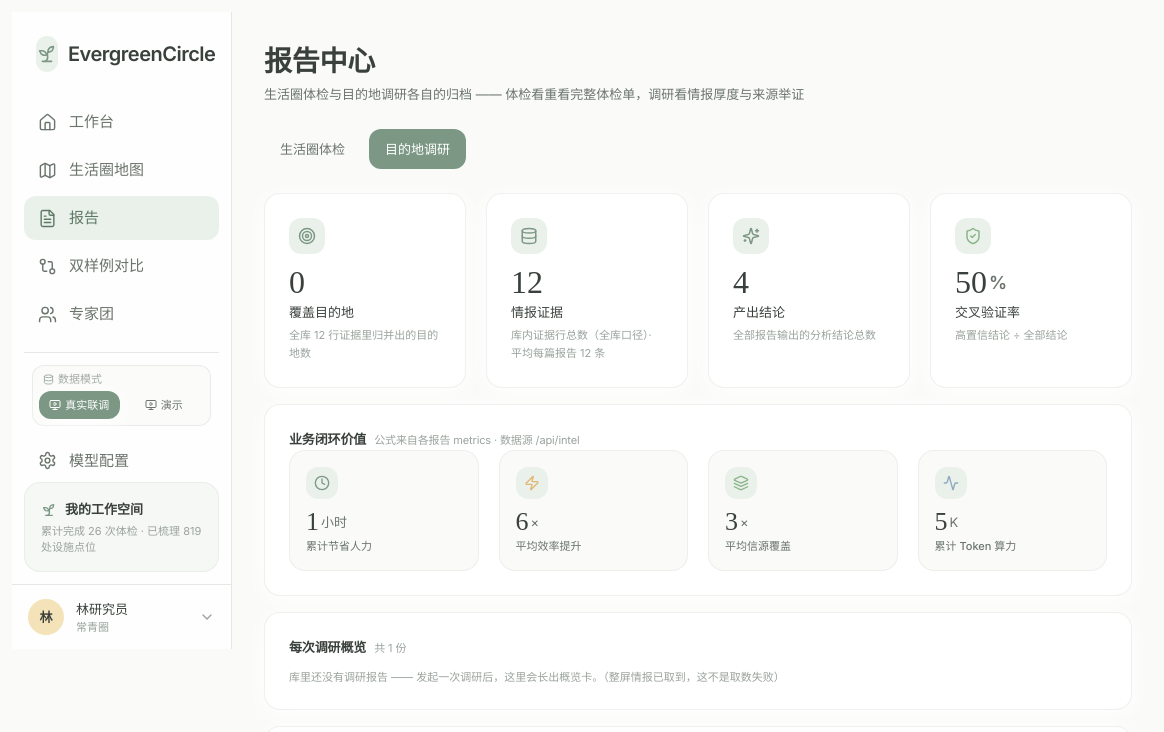
it: 数据模式开关 → 调研屏（用户入口全链路） › 真实态先出八块屏，点「演示」后换成说明态且不再取数
Expected: the heading "每次调研概览" is shown, [289,639,366,655]
Click the button "演示".
click(164, 405)  # box [124,391,204,419]
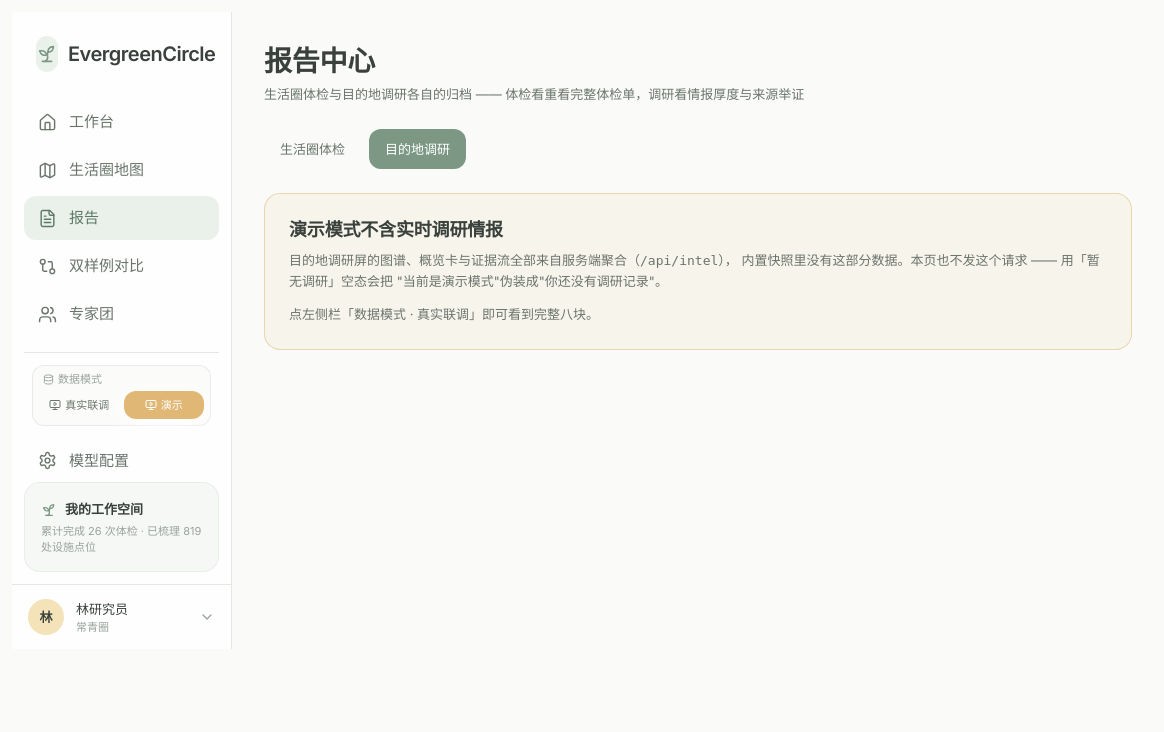
Now the heading "演示模式不含实时调研情报" is shown, box [289,219,503,240]
Now the text "点左侧栏「数据模式 · 真实联调」即可看到完整八块。" is shown, box [289,306,599,322]
Now the heading "每次调研概览" is gone
